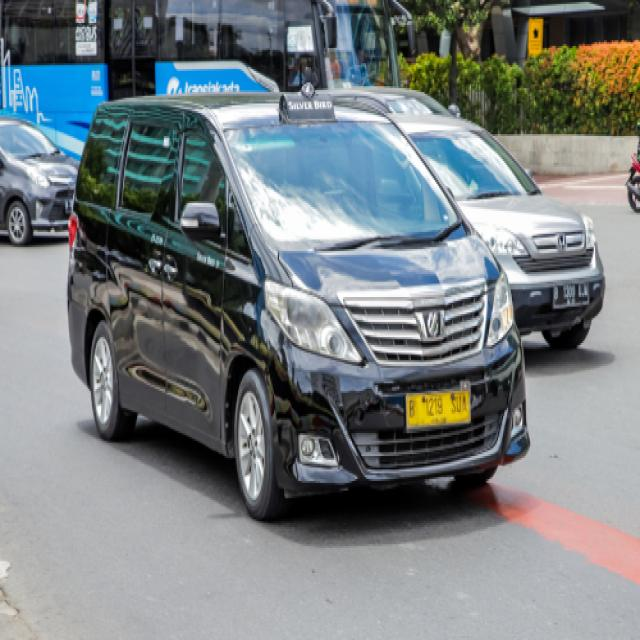plate: (405, 391, 471, 427)
